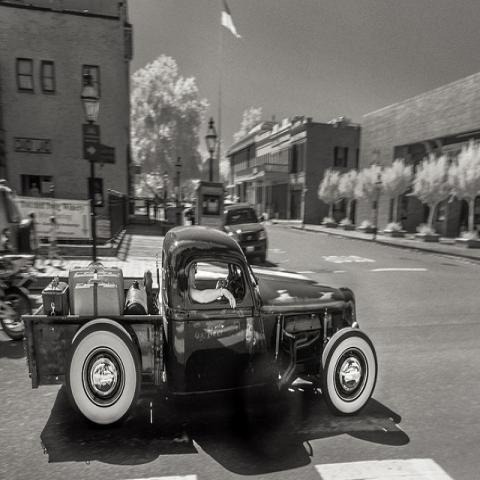car: (222, 203, 267, 263)
motorcycle: (0, 272, 41, 341)
truck: (24, 223, 381, 435)
